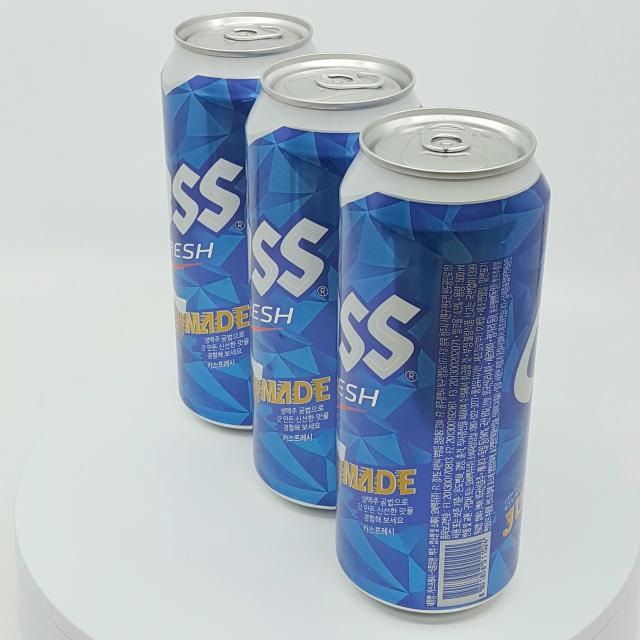beer-can: (334, 106, 550, 614), (246, 52, 434, 510), (160, 10, 334, 431)
